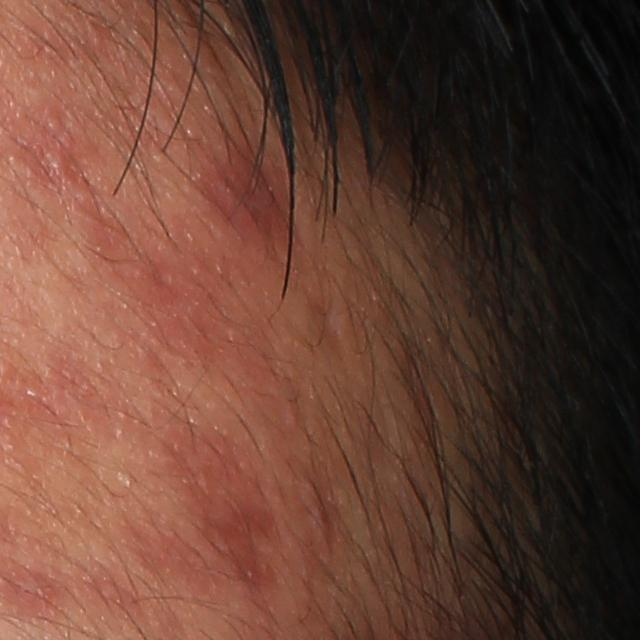atrophic_scar: (210, 485, 288, 599)
papule: (44, 149, 64, 181)
